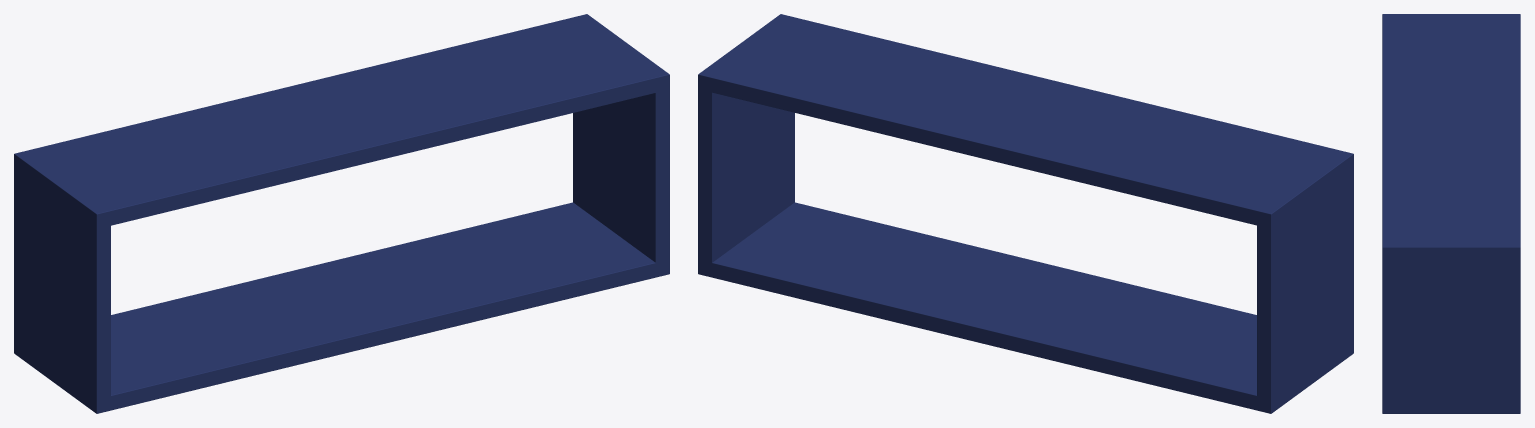
The model's file is MODH_2X07_A_O_AF.glb.
3 views of the same model, side by side, from view 1: azimuth 30°, elevation 25°; view 2: azimuth 150°, elevation 25°; view 3: azimuth 270°, elevation 25° (orthographic). The views are drawn at different scales.
Size of the model in its own units: 720 by 240 by 180.
